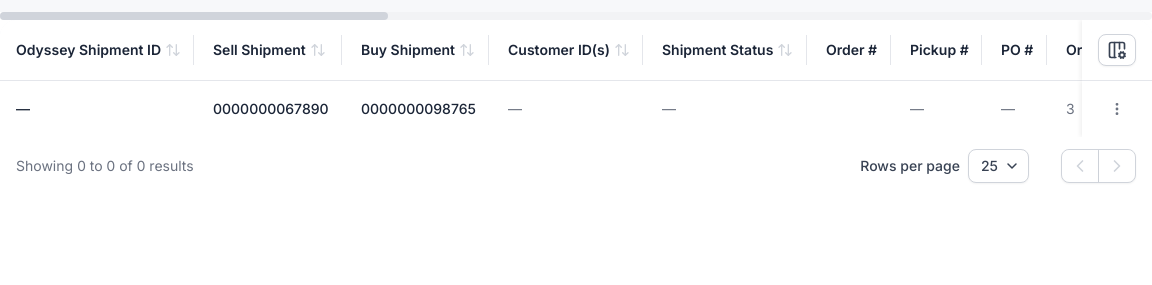
ShipmentTable — row actions menu (LINX-14509 Review Order Change) › Consolidation row action reads "Review Consolidated Change", not "Review Order Change"
Step 1. Click the button named "Shipment actions" → (1117,109), box [1103, 95, 1131, 123]
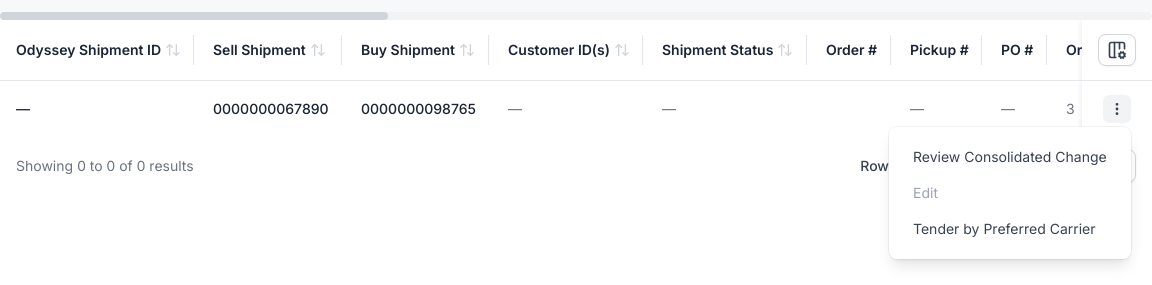
Expected: the menu item "Review Consolidated Change" is shown, [913, 148, 1107, 165]
